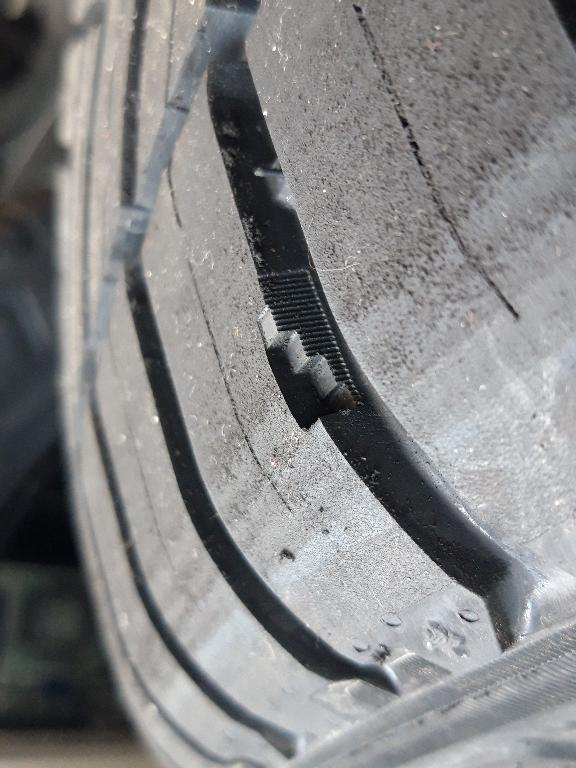temoin:75: (253, 298, 374, 438)
